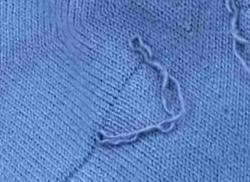snag: (91, 120, 131, 150)
